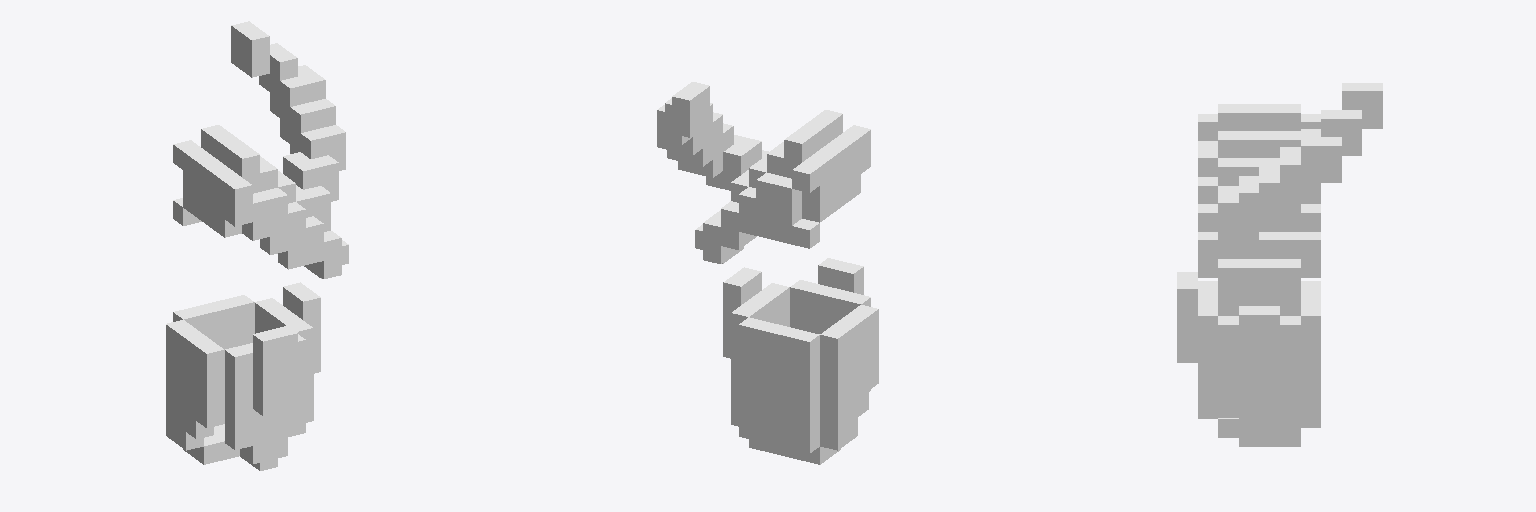
The model's file is chestLeft.obj.
3 renders of one model, left to right at view 1: azimuth 30°, elevation 25°; view 2: azimuth 150°, elevation 25°; view 3: azimuth 270°, elevation 25°, orthographic.
Parts seen in each view (by area): view 1: object 1; view 2: object 1; view 3: object 1.
Boxes of the visible parts, x1=… form: object 1: x1=166, y1=21, x2=348, y2=470; object 1: x1=657, y1=82, x2=878, y2=464; object 1: x1=1177, y1=83, x2=1382, y2=446.
Bounding box in the file's own units: 0.9 × 2 × 1.